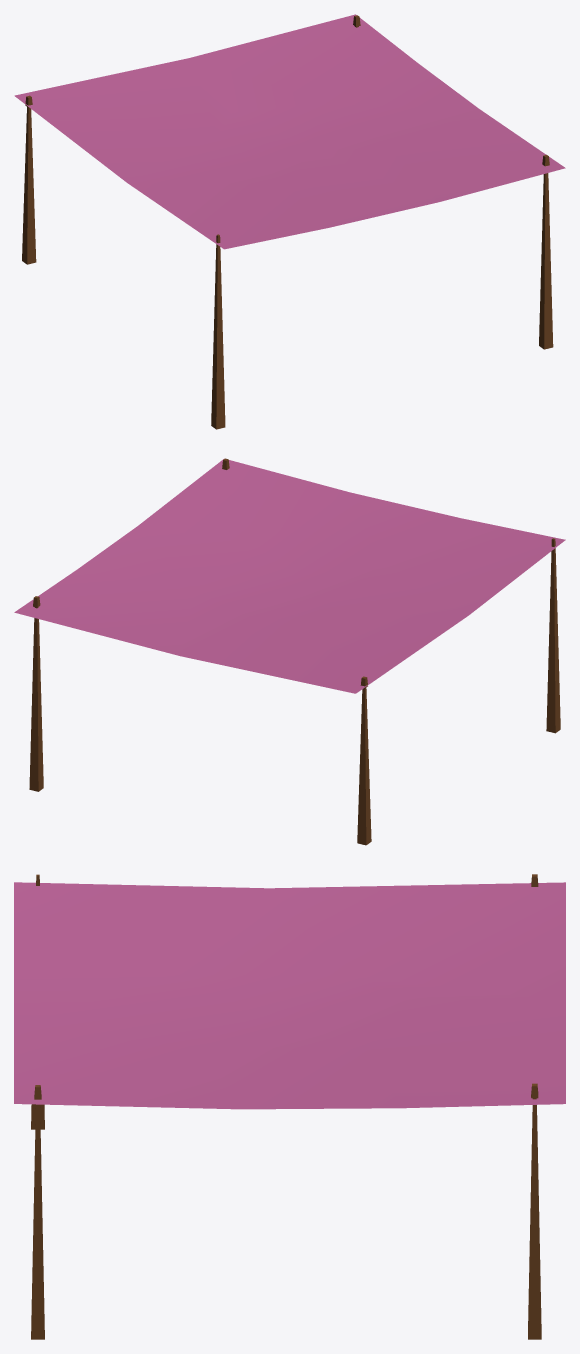
Rendered from Shed_3.fbx.
3 renders of one model, top to bottom at view 1: azimuth 30°, elevation 25°; view 2: azimuth 150°, elevation 25°; view 3: azimuth 270°, elevation 25°, orthographic. The views are drawn at different scales.
Visible parts, largest first — view 1: Shed_3; view 2: Shed_3; view 3: Shed_3.
Part boxes in pixels (<box>): Shed_3: <box>14,14,565,429</box>; Shed_3: <box>14,458,565,845</box>; Shed_3: <box>14,874,565,1339</box>.
Bounding box in the file's own units: 188 × 101 × 200.
